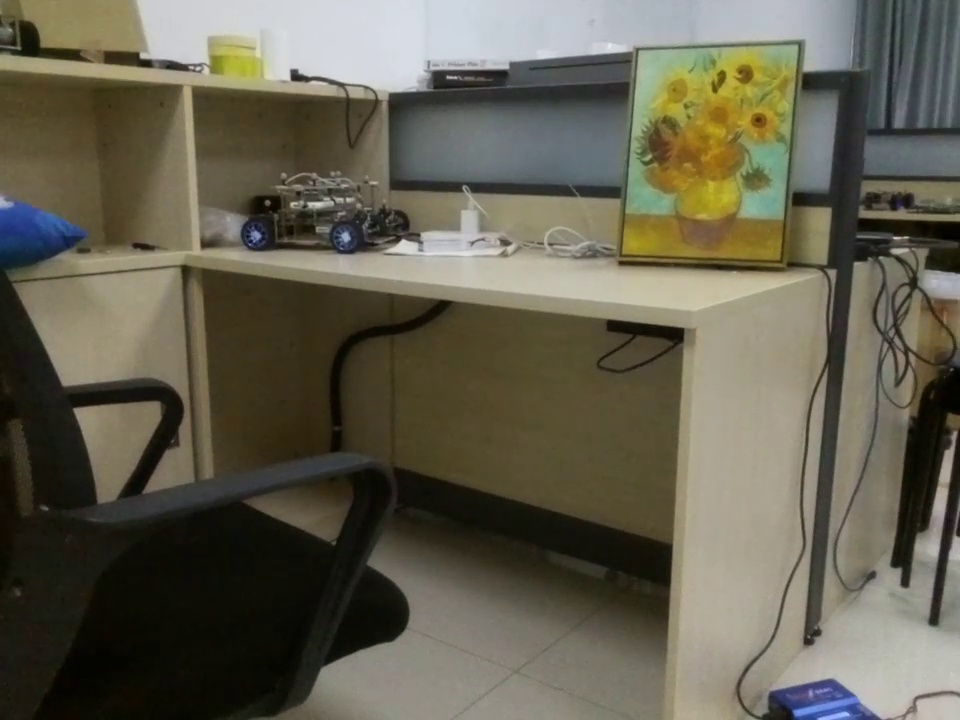painting: (618, 37, 807, 268)
